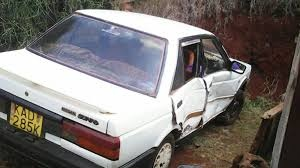Broken-glass: (181, 36, 226, 74)
Dent: (173, 75, 235, 135)
Scratch: (97, 108, 119, 118)
